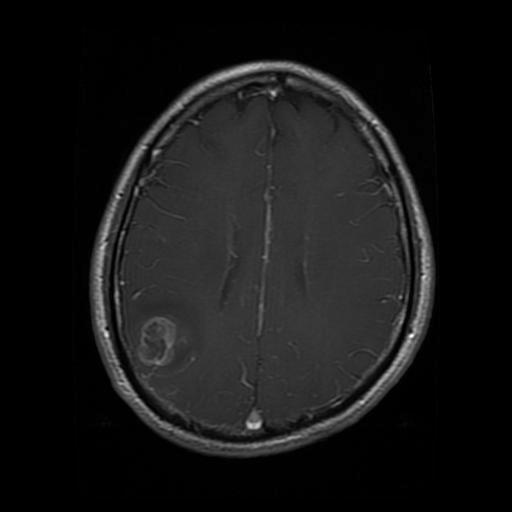Tumour-Glioma: (132, 312, 195, 380)
